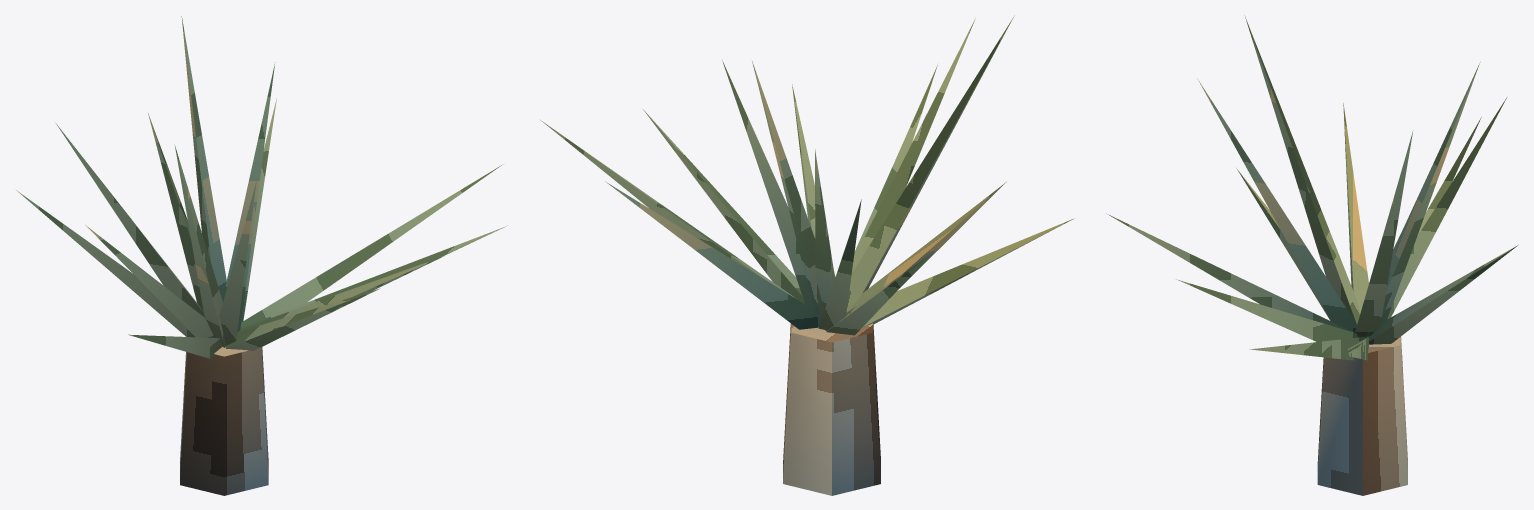
File: wland.yucca__no_stalk.glb
3 views of the same model, side by side, from view 1: azimuth 30°, elevation 25°; view 2: azimuth 150°, elevation 25°; view 3: azimuth 270°, elevation 25° (orthographic). The views are drawn at different scales.
Visible parts, largest first — view 1: kit_leaves, kit_trunk; view 2: kit_leaves, kit_trunk; view 3: kit_leaves, kit_trunk.
Boxes of the visible parts, box(x1,y1,x2,y2) form: kit_leaves: box(16, 16, 507, 359); kit_trunk: box(180, 347, 268, 495); kit_leaves: box(540, 15, 1073, 335); kit_trunk: box(783, 323, 880, 495); kit_leaves: box(1106, 15, 1518, 360); kit_trunk: box(1317, 337, 1407, 495).
Bounding box in the file's own units: 1.17 × 1.07 × 0.9535.
Materials: 2 (2 with a texture image).
